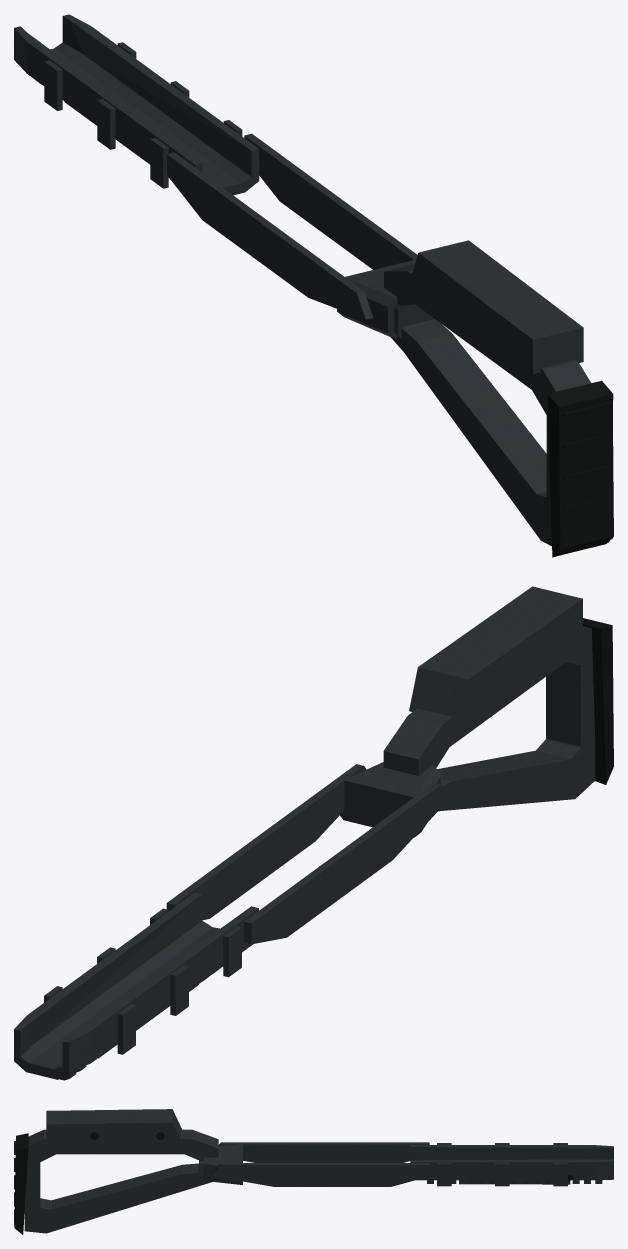
File: m14_chassis.glb
The picture shows the model from 3 angles, top to bottom: view 1: azimuth 30°, elevation 25°; view 2: azimuth 150°, elevation 25°; view 3: azimuth 270°, elevation 25°; orthographic projection. The views are drawn at different scales.
Visible parts, largest first — view 1: stock__m14_chassis_LOD0_RAID_Secondary_Original_steel, stock__m14_chassis_LOD1_RAID_Secondary_Original_steel, stock__m14_chassis_LOD0_RAID_Secondary_Original_rubber, stock__m14_chassis_LOD1_RAID_Secondary_Original_rubber; view 2: stock__m14_chassis_LOD0_RAID_Secondary_Original_steel, stock__m14_chassis_LOD1_RAID_Secondary_Original_steel, stock__m14_chassis_LOD1_RAID_Secondary_Original_rubber, stock__m14_chassis_LOD0_RAID_Secondary_Original_rubber; view 3: stock__m14_chassis_LOD0_RAID_Secondary_Original_steel, stock__m14_chassis_LOD1_RAID_Secondary_Original_steel, stock__m14_chassis_LOD1_RAID_Secondary_Original_rubber, stock__m14_chassis_LOD0_RAID_Secondary_Original_rubber.
Boxes of the visible parts, x1,y1,x2,y2 form: stock__m14_chassis_LOD0_RAID_Secondary_Original_steel: (14, 14, 583, 538); stock__m14_chassis_LOD1_RAID_Secondary_Original_steel: (15, 15, 590, 546); stock__m14_chassis_LOD0_RAID_Secondary_Original_rubber: (549, 382, 613, 552); stock__m14_chassis_LOD1_RAID_Secondary_Original_rubber: (547, 380, 613, 557); stock__m14_chassis_LOD0_RAID_Secondary_Original_steel: (14, 586, 587, 1080); stock__m14_chassis_LOD1_RAID_Secondary_Original_steel: (16, 626, 595, 1079); stock__m14_chassis_LOD1_RAID_Secondary_Original_rubber: (583, 618, 613, 784); stock__m14_chassis_LOD0_RAID_Secondary_Original_rubber: (583, 618, 609, 782); stock__m14_chassis_LOD0_RAID_Secondary_Original_steel: (28, 1109, 613, 1232); stock__m14_chassis_LOD1_RAID_Secondary_Original_steel: (24, 1129, 613, 1233); stock__m14_chassis_LOD1_RAID_Secondary_Original_rubber: (16, 1133, 28, 1232); stock__m14_chassis_LOD0_RAID_Secondary_Original_rubber: (14, 1132, 573, 1234).
Size of the model in its own units: 0.111 by 0.257 by 1.24.
Materials: 2 (2 with a texture image).
